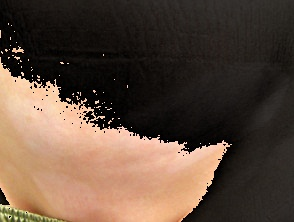vitiligo: (3, 41, 294, 222)
